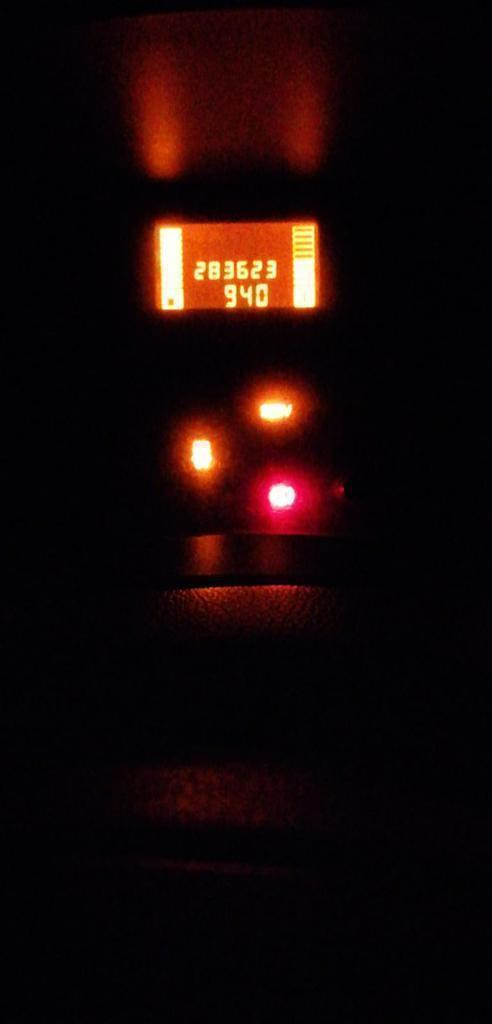0: (254, 283, 268, 306)
2: (250, 258, 262, 280), (194, 259, 206, 279)
3: (265, 259, 277, 279), (224, 260, 234, 279)
4: (238, 283, 252, 306)
6: (236, 258, 249, 279)
8: (207, 258, 220, 279)
9: (223, 282, 237, 307)
odometer: (144, 215, 329, 315)
